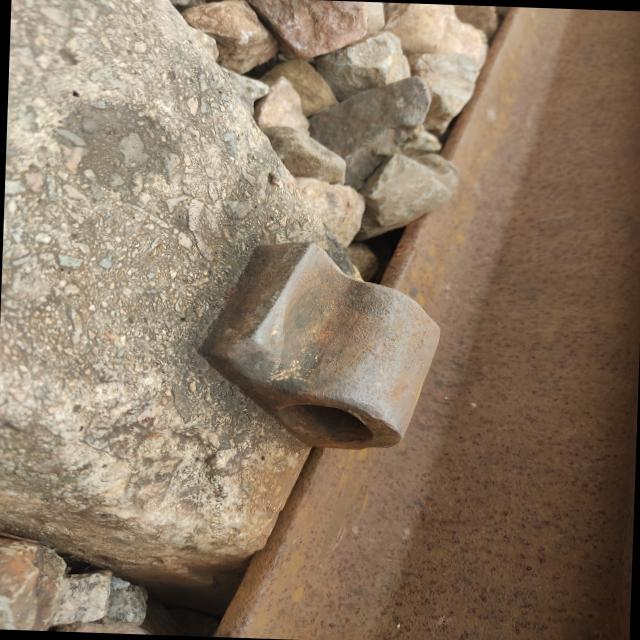track_bolt_missing: (292, 274, 446, 454)
